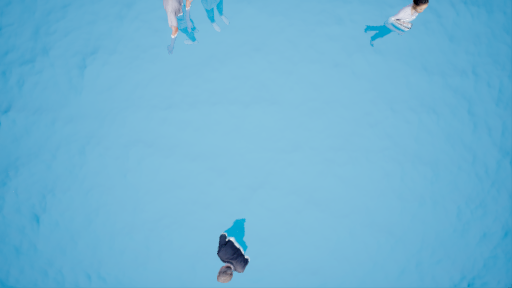person: (206, 203, 259, 283), (356, 1, 437, 48), (155, 1, 231, 50)
